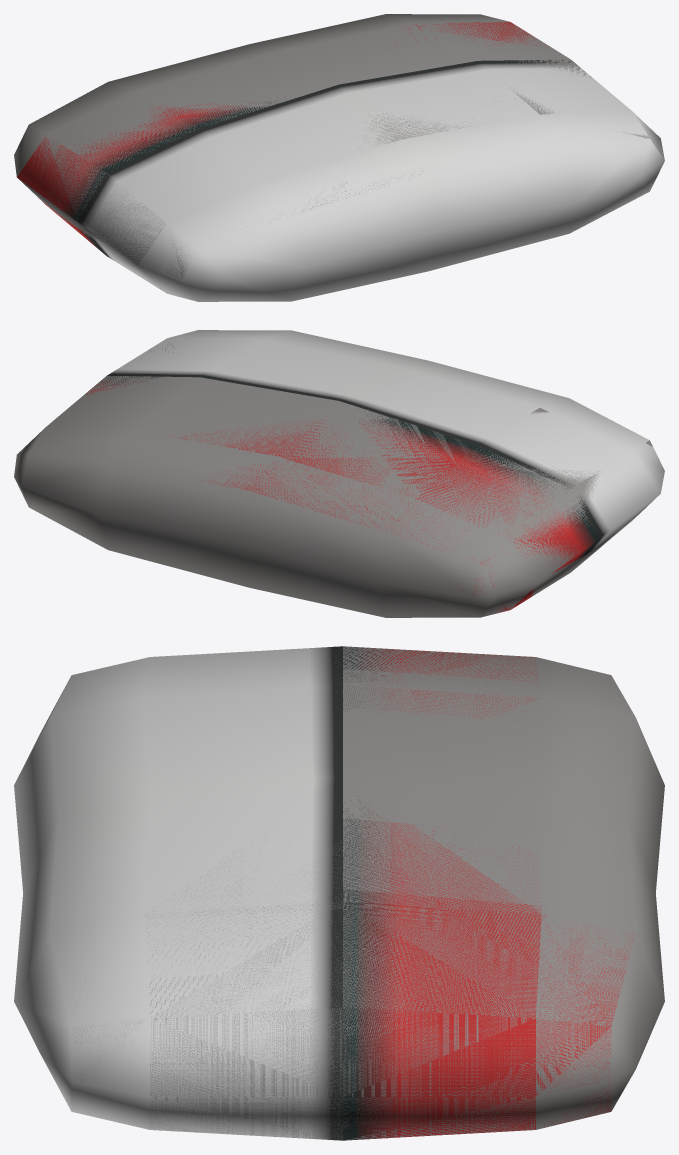
File: Pillow_002.fbx
3 renders of one model, top to bottom at view 1: azimuth 30°, elevation 25°; view 2: azimuth 150°, elevation 25°; view 3: azimuth 270°, elevation 25°, orthographic. The views are drawn at different scales.
Visible parts, largest first — view 1: Pillow_002_1, Pillow_002_10; view 2: Pillow_002_10, Pillow_002_1; view 3: Pillow_002_1, Pillow_002_10.
Boxes of the visible parts, x1=… form: Pillow_002_1: x1=17, y1=22, x2=664, y2=301; Pillow_002_10: x1=14, y1=14, x2=649, y2=289; Pillow_002_10: x1=14, y1=342, x2=652, y2=617; Pillow_002_1: x1=86, y1=330, x2=664, y2=612; Pillow_002_1: x1=14, y1=646, x2=632, y2=1140; Pillow_002_10: x1=72, y1=646, x2=664, y2=1140.
Bounding box in the file's own units: 2.3 × 0.5992 × 1.55.
